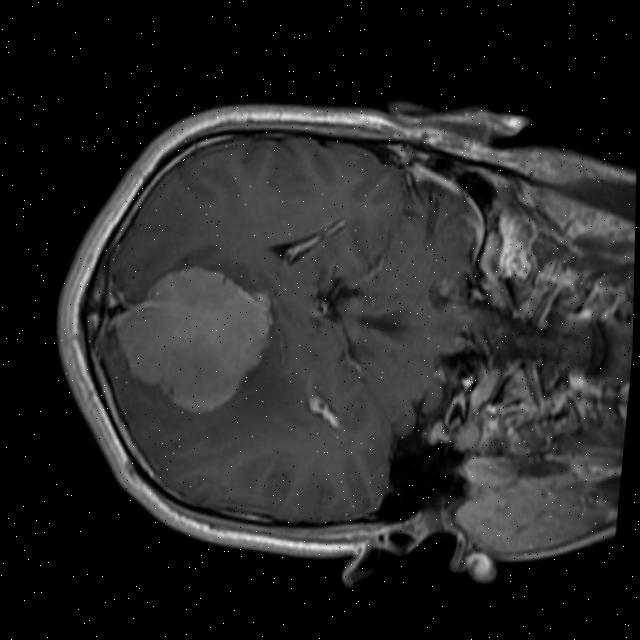Meningioma: (105, 256, 276, 419)
